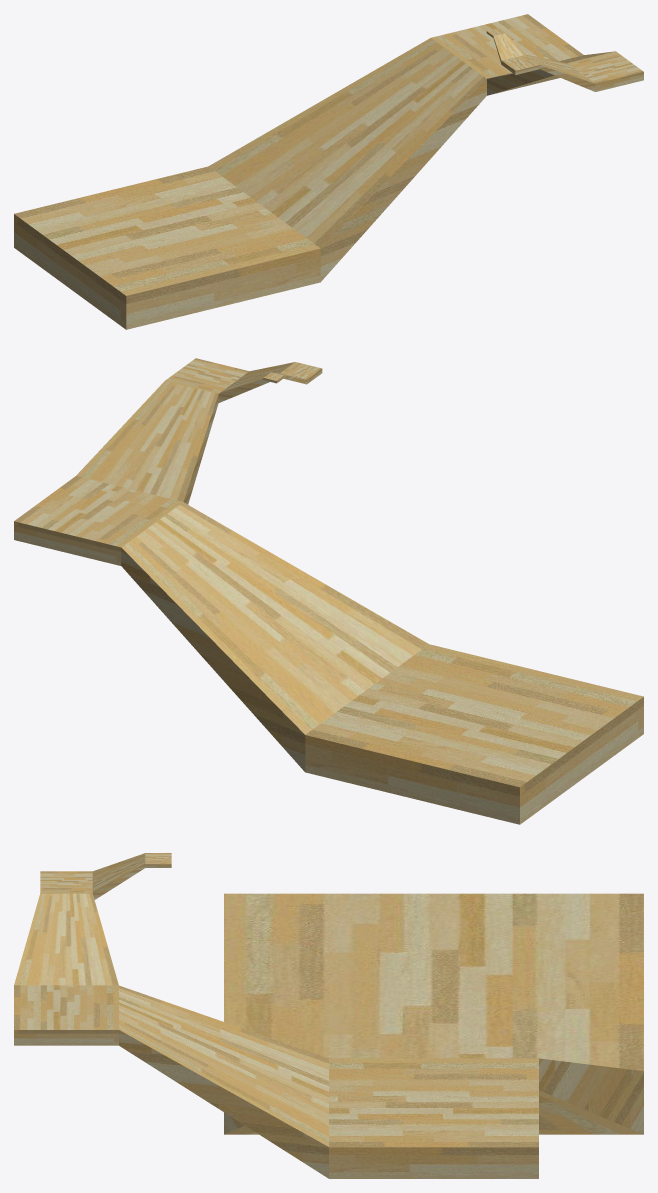
The model's file is ScaleTest.dae.
The picture shows the model from 3 angles, top to bottom: view 1: azimuth 30°, elevation 25°; view 2: azimuth 150°, elevation 25°; view 3: azimuth 270°, elevation 25°; orthographic projection. The views are drawn at different scales.
Visible parts, largest first — view 1: instance_6, instance_5, instance_8, instance_3, instance_7, instance_0, instance_2, instance_1; view 2: instance_6, instance_5, instance_7, instance_8, instance_3, instance_0; view 3: instance_6, instance_8, instance_7, instance_5, instance_0, instance_3, instance_2, instance_1.
Part boxes in pixels (<box>): instance_6: <box>14,166,320,329</box>; instance_5: <box>208,38,486,281</box>; instance_8: <box>431,14,583,78</box>; instance_3: <box>567,51,643,91</box>; instance_7: <box>487,51,614,95</box>; instance_0: <box>526,55,595,91</box>; instance_2: <box>493,33,525,63</box>; instance_1: <box>501,54,539,74</box>; instance_6: <box>305,644,643,824</box>; instance_5: <box>121,502,428,771</box>; instance_7: <box>76,381,218,504</box>; instance_8: <box>14,476,182,565</box>; instance_3: <box>165,358,249,393</box>; instance_0: <box>218,362,294,402</box>; instance_6: <box>224,893,643,1071</box>; instance_8: <box>329,1058,538,1178</box>; instance_7: <box>119,985,328,1178</box>; instance_5: <box>224,1058,643,1134</box>; instance_0: <box>14,893,118,985</box>; instance_3: <box>14,985,118,1045</box>; instance_2: <box>92,853,145,899</box>; instance_1: <box>40,871,92,893</box>.
Size of the model in its own units: 59.06 by 35.43 by 26.08.
3 materials, 3 textured.
